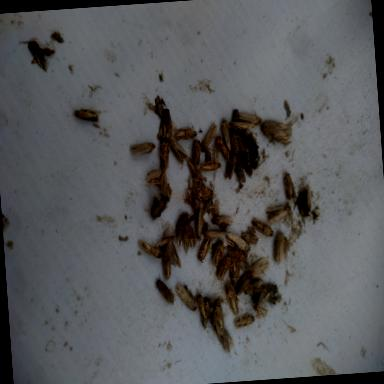pbw: (20, 36, 48, 71), (260, 117, 292, 144), (250, 286, 272, 323), (162, 234, 182, 270), (154, 273, 175, 306), (174, 282, 196, 312), (226, 230, 252, 255), (265, 202, 293, 224), (168, 135, 189, 164), (214, 132, 233, 164), (210, 300, 226, 338), (232, 303, 256, 328), (218, 115, 234, 152), (174, 216, 190, 253), (138, 236, 162, 260), (148, 196, 170, 222), (196, 290, 210, 329), (158, 107, 174, 141), (195, 234, 214, 262), (215, 253, 234, 280), (282, 168, 298, 200), (249, 255, 271, 278), (250, 215, 274, 236), (186, 155, 204, 182), (224, 284, 240, 314), (234, 270, 254, 294), (202, 119, 218, 149), (272, 230, 286, 264), (184, 186, 201, 213), (129, 140, 157, 156), (236, 108, 262, 125), (222, 152, 238, 179), (221, 325, 235, 355), (248, 133, 260, 168), (158, 134, 170, 168), (242, 278, 264, 296), (212, 240, 226, 268), (194, 208, 206, 240), (228, 118, 255, 132), (233, 154, 246, 183), (198, 158, 224, 172), (240, 228, 260, 246), (210, 214, 234, 228), (174, 126, 198, 140), (145, 166, 165, 182), (186, 216, 196, 248), (191, 138, 202, 166), (202, 228, 227, 240), (303, 180, 312, 212), (243, 154, 254, 178), (230, 132, 240, 156), (197, 184, 217, 196), (213, 198, 220, 215)
